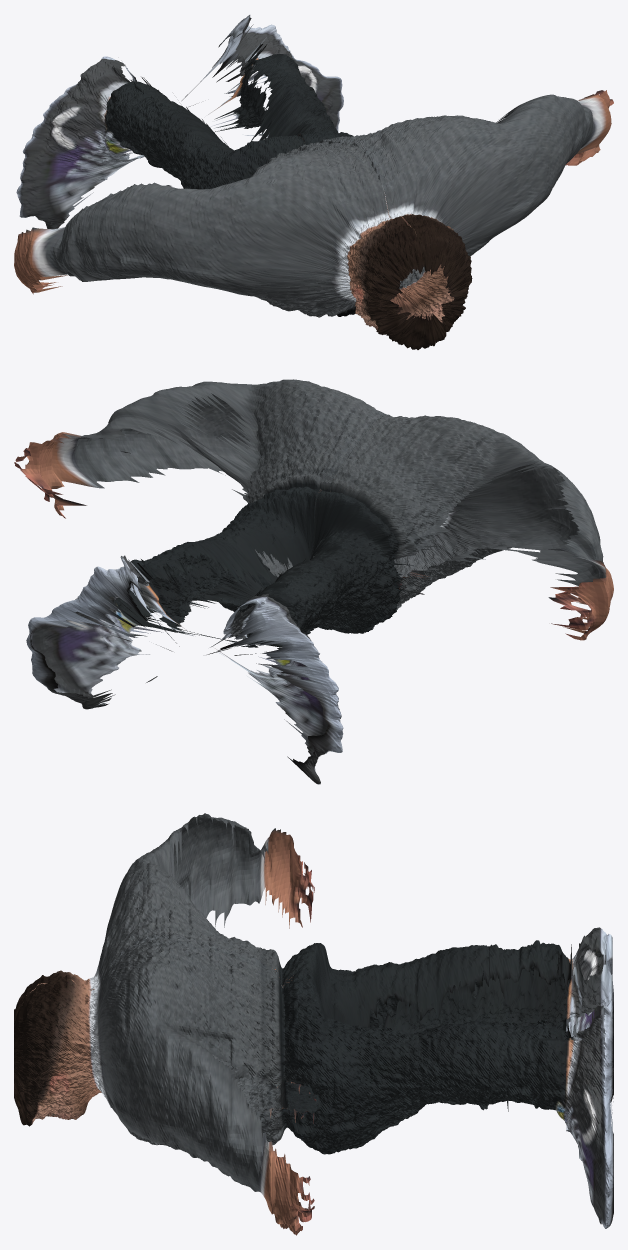
3 views of the same model, one above another, from view 1: azimuth 30°, elevation 25°; view 2: azimuth 150°, elevation 25°; view 3: azimuth 270°, elevation 25° (orthographic). The views are drawn at different scales.
Visible parts, largest first — view 1: geometry_0; view 2: geometry_0; view 3: geometry_0.
Boxes of the visible parts, box(x1,y1,x2,y2) form: geometry_0: box(14, 15, 613, 349); geometry_0: box(14, 379, 613, 784); geometry_0: box(14, 813, 613, 1235).
Bounding box in the file's own units: 1.86 × 0.6497 × 1.36.
1 material, 1 textured.
